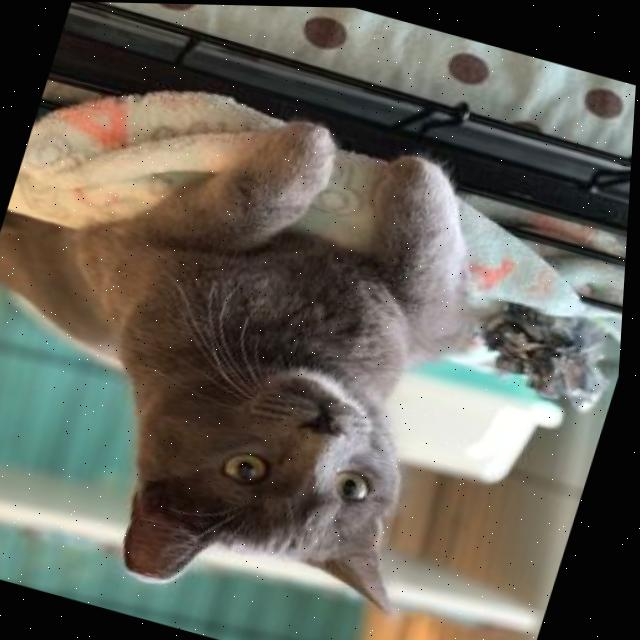Russian Blue: (0, 47, 537, 640)
